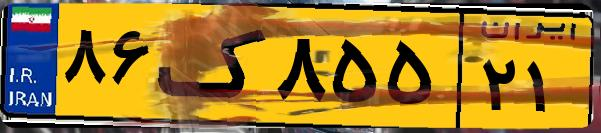1: (525, 38, 570, 115)
2: (475, 38, 525, 113)
5: (385, 28, 445, 110), (330, 28, 385, 110)
6: (110, 28, 158, 98)
8: (270, 28, 330, 110), (57, 26, 110, 100)
ک: (158, 12, 270, 120)
